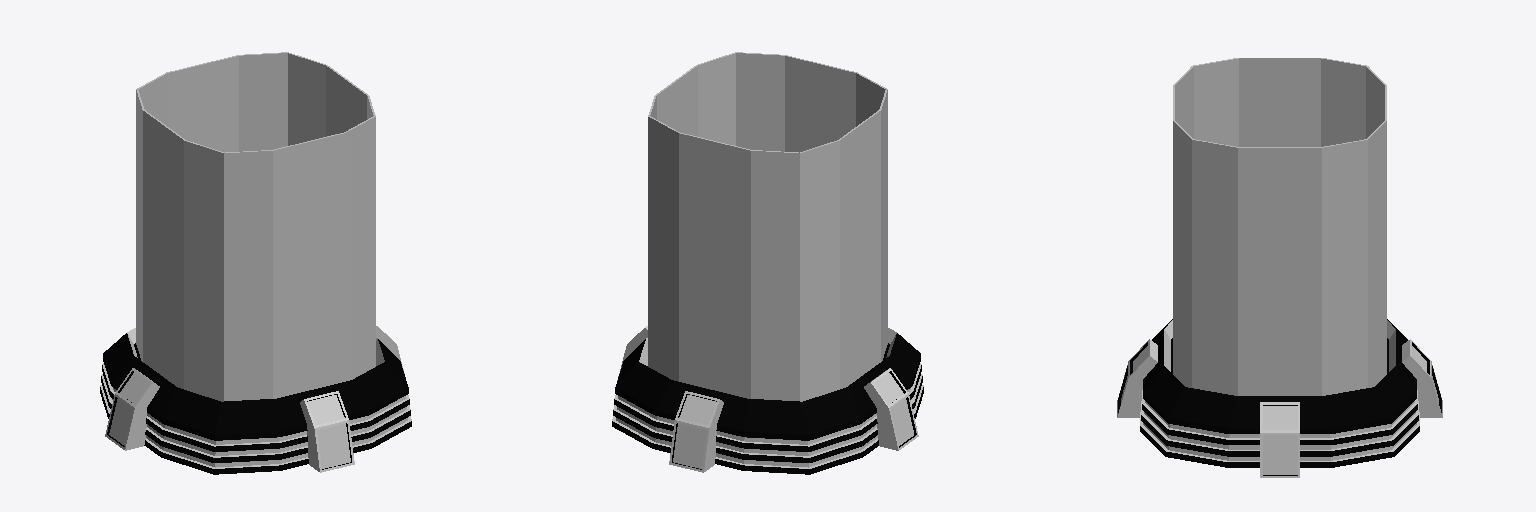
Rendered from Hologram_Sign_Platform.obj.
3 views of the same model, side by side, from view 1: azimuth 30°, elevation 25°; view 2: azimuth 150°, elevation 25°; view 3: azimuth 270°, elevation 25° (orthographic).
Parts seen in each view (by area): view 1: Light.001_Cube.001, Main_body_Cube, Cube.003_Cube.002, Cube.002; view 2: Light.001_Cube.001, Main_body_Cube, Cube.003_Cube.002, Cube.002; view 3: Light.001_Cube.001, Main_body_Cube, Cube.003_Cube.002, Cube.002.
Boxes of the visible parts, box(x1,y1,x2,y2) form: Light.001_Cube.001: box(136, 52, 375, 401); Main_body_Cube: box(100, 328, 411, 474); Cube.003_Cube.002: box(300, 391, 354, 472); Cube.002: box(105, 326, 404, 450); Light.001_Cube.001: box(648, 52, 887, 401); Main_body_Cube: box(612, 328, 923, 474); Cube.003_Cube.002: box(669, 391, 723, 472); Cube.002: box(617, 326, 918, 450); Light.001_Cube.001: box(1173, 58, 1386, 395); Main_body_Cube: box(1140, 319, 1419, 467); Cube.003_Cube.002: box(1117, 339, 1442, 417); Cube.002: box(1260, 402, 1299, 477).
Bounding box in the file's own units: 1.07 × 1.11 × 1.07.